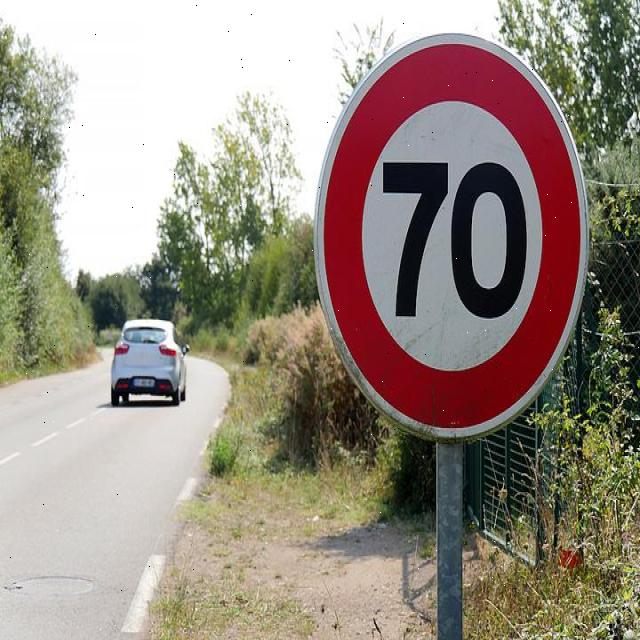speed limit 70: (314, 34, 588, 441)
